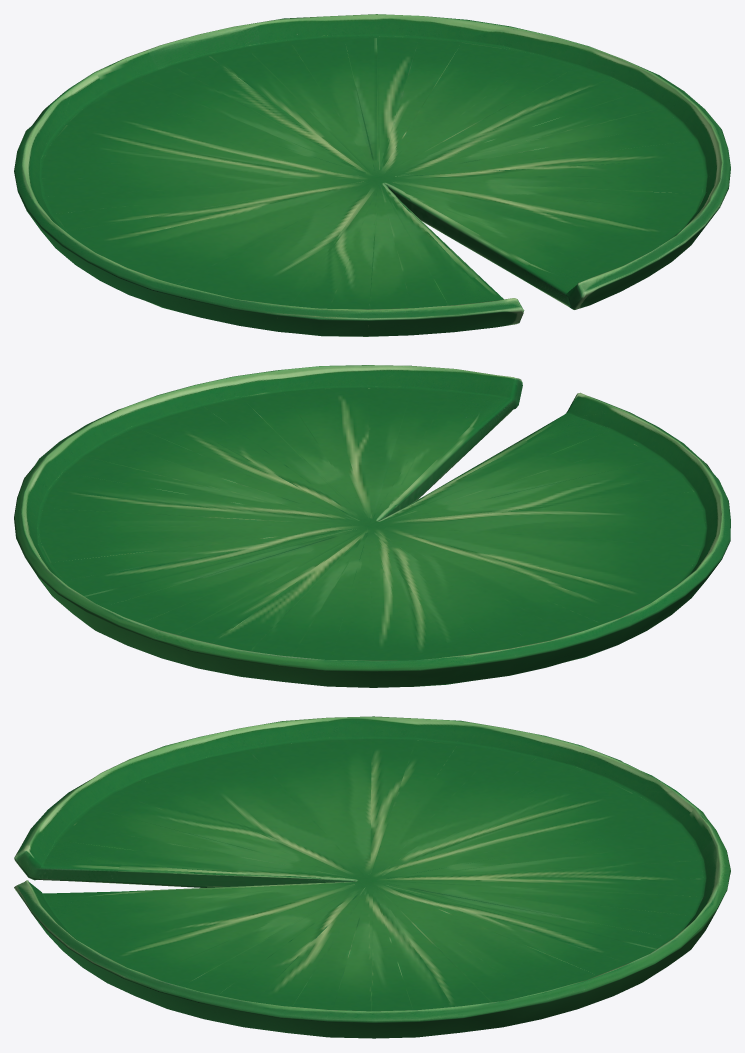
Rendered from LilyPad.glb.
The picture shows the model from 3 angles, top to bottom: view 1: azimuth 30°, elevation 25°; view 2: azimuth 150°, elevation 25°; view 3: azimuth 270°, elevation 25°; orthographic projection.
Size of the model in its own units: 0.9497 by 0.0464 by 0.9507.
1 material, 1 textured.
